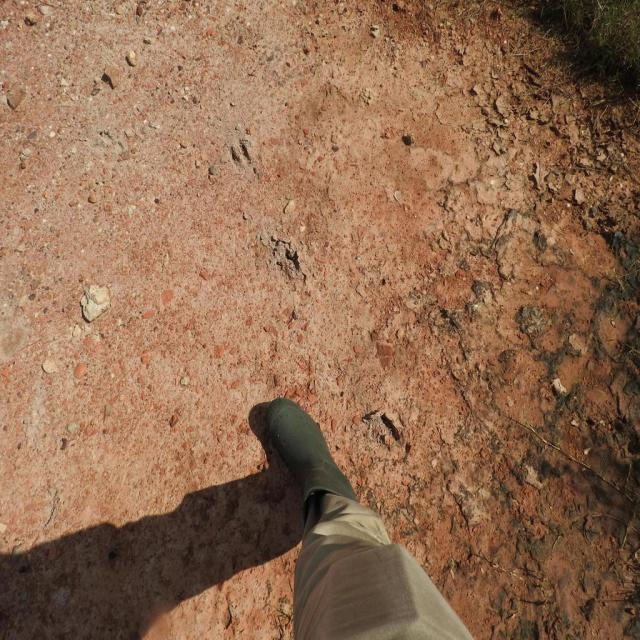deer: (280, 248, 304, 289), (380, 413, 402, 450), (227, 142, 252, 168)
